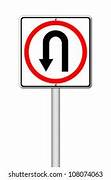back: (22, 20, 89, 85)
